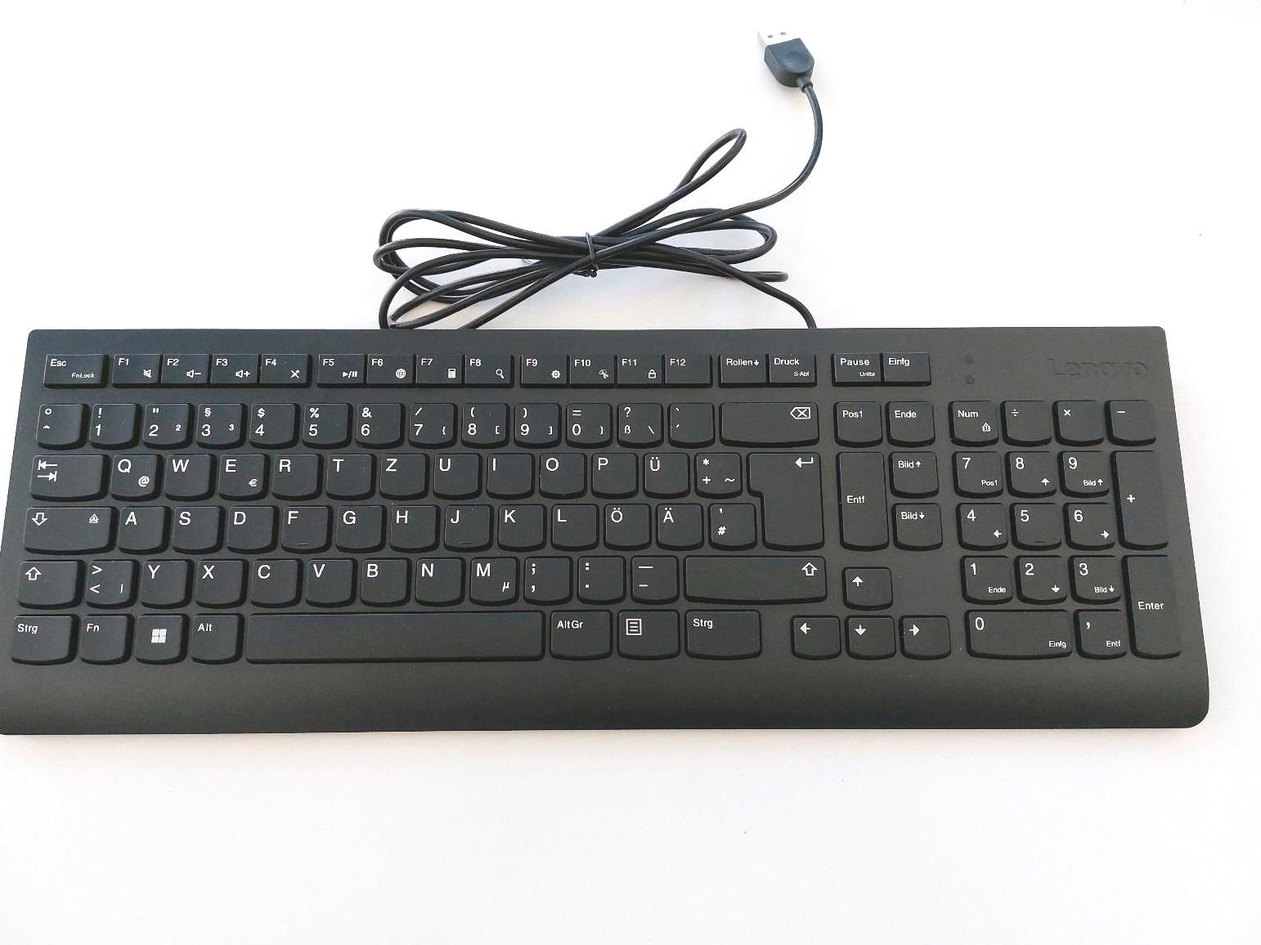0: (562, 398, 610, 444)
1: (88, 400, 135, 445)
2: (141, 399, 189, 444)
3: (194, 399, 243, 445)
4: (248, 399, 294, 444)
5: (300, 400, 348, 444)
6: (353, 400, 401, 444)
7: (406, 398, 454, 444)
8: (459, 399, 506, 444)
9: (511, 399, 559, 444)
a: (115, 503, 164, 549)
accent: (666, 398, 712, 442)
ae: (653, 499, 702, 548)
alt-left: (187, 610, 238, 660)
altgr-right: (545, 606, 610, 656)
b: (357, 554, 407, 603)
c: (247, 555, 298, 603)
caret: (34, 400, 81, 443)
comma: (521, 553, 570, 602)
d: (224, 502, 273, 550)
del: (717, 397, 819, 442)
e: (215, 450, 265, 497)
enter: (744, 447, 822, 547)
f: (279, 502, 328, 549)
g: (333, 502, 382, 549)
h: (387, 502, 436, 549)
hash: (707, 499, 755, 546)
i: (484, 450, 532, 495)
j: (442, 500, 490, 548)
k: (495, 500, 544, 548)
keyboard: (1, 316, 1209, 732)
l: (549, 500, 596, 547)
less: (83, 555, 133, 605)
m: (466, 553, 516, 602)
minus: (627, 552, 676, 601)
n: (412, 554, 462, 602)
o: (536, 449, 584, 495)
oe: (601, 500, 649, 547)
p: (589, 449, 636, 495)
plus: (692, 448, 740, 494)
point: (574, 553, 624, 601)
q: (107, 450, 157, 498)
r: (269, 450, 318, 496)
s: (170, 502, 219, 550)
shift-left: (13, 557, 76, 605)
shift-lock: (20, 503, 111, 549)
shift-right: (680, 551, 826, 599)
space: (242, 608, 543, 660)
ss: (614, 398, 661, 443)
strg-left: (6, 611, 71, 661)
strg-right: (681, 606, 761, 656)
t: (324, 450, 371, 496)
tab: (26, 450, 102, 496)
u: (430, 450, 478, 495)
ue: (640, 449, 689, 495)
v: (303, 555, 353, 603)
w: (162, 450, 210, 496)
x: (192, 556, 243, 604)
y: (138, 556, 187, 605)
z: (378, 450, 425, 496)
